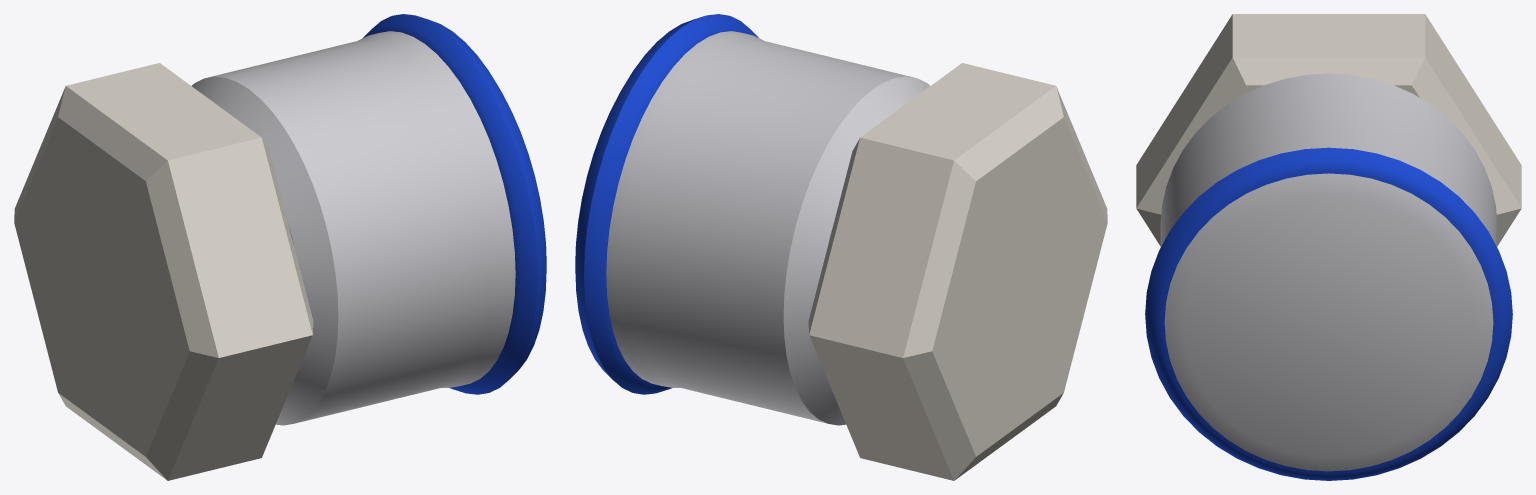
Rendered from fitting_adp_42x112_F.glb.
3 renders of one model, left to right at view 1: azimuth 30°, elevation 25°; view 2: azimuth 150°, elevation 25°; view 3: azimuth 270°, elevation 25°, orthographic. The views are drawn at different scales.
Parts seen in each view (by area): view 1: шестигранник переходника, раструб, кольцо пресс; view 2: шестигранник переходника, раструб, кольцо пресс; view 3: раструб, шестигранник переходника, кольцо пресс.
Part boxes in pixels (x1,y1,x2,y2): шестигранник переходника: (14, 63, 313, 480); раструб: (192, 31, 515, 425); кольцо пресс: (363, 14, 546, 394); шестигранник переходника: (808, 63, 1107, 480); раструб: (606, 31, 929, 425); кольцо пресс: (575, 14, 758, 394); раструб: (1160, 73, 1497, 471); шестигранник переходника: (1136, 14, 1521, 245); кольцо пресс: (1145, 147, 1512, 480).
Bounding box in the file's own units: 0.062 × 0.0573 × 0.06.
